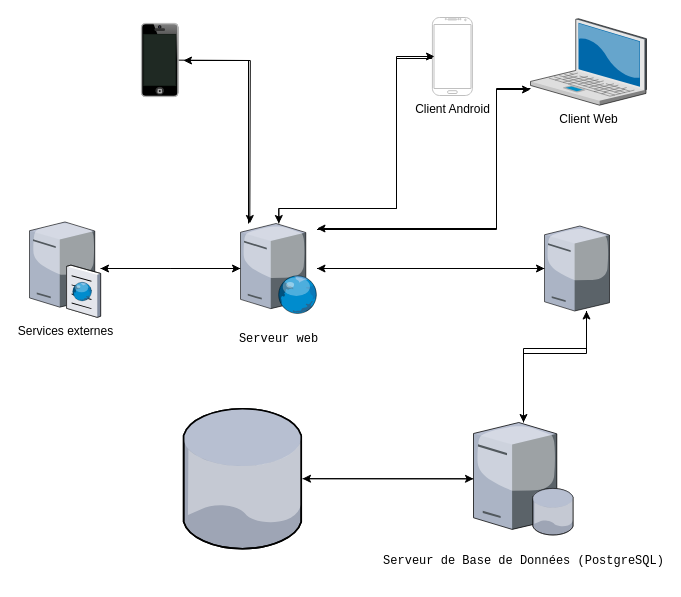
Some shapes in this 681 by 597 pixel diagram are drawn without their labels. The centre of each missing label's shape, as x and y in pixels:
Base de donnée: point 242,478
Client iOS: point 159,59
Serveur d'Application: point 576,268
